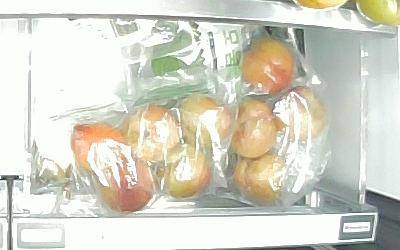prune_vinyl: (235, 36, 296, 96), (96, 152, 154, 212), (125, 106, 181, 165), (277, 86, 329, 142), (158, 144, 210, 199), (233, 156, 290, 206), (69, 122, 124, 173), (230, 98, 277, 157), (178, 95, 231, 147)
